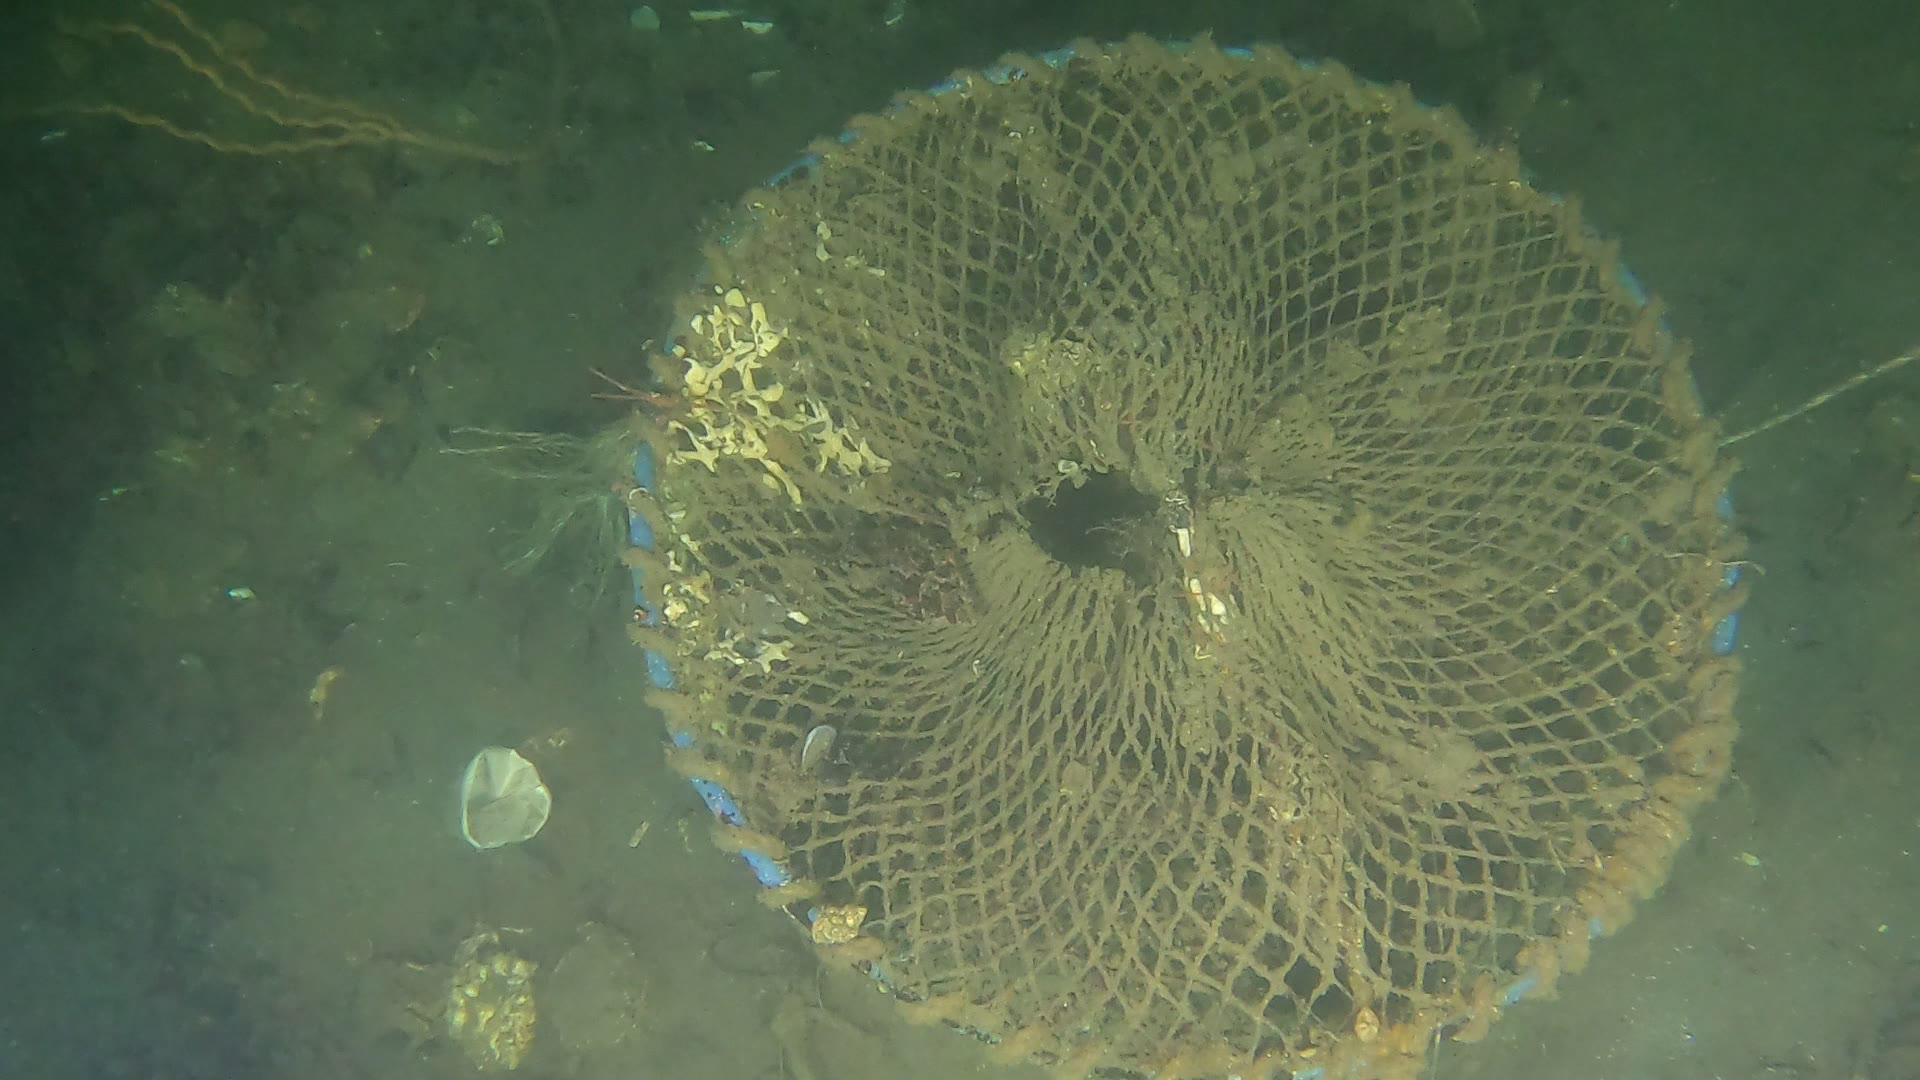circular fish trap: (621, 36, 1750, 1080)
